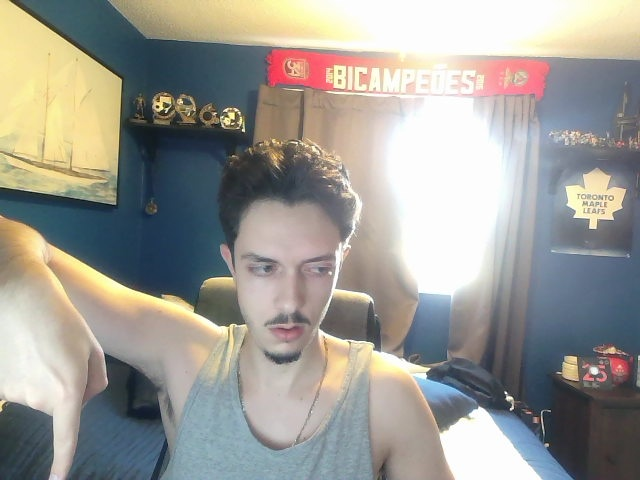Down: (1, 266, 109, 480)
